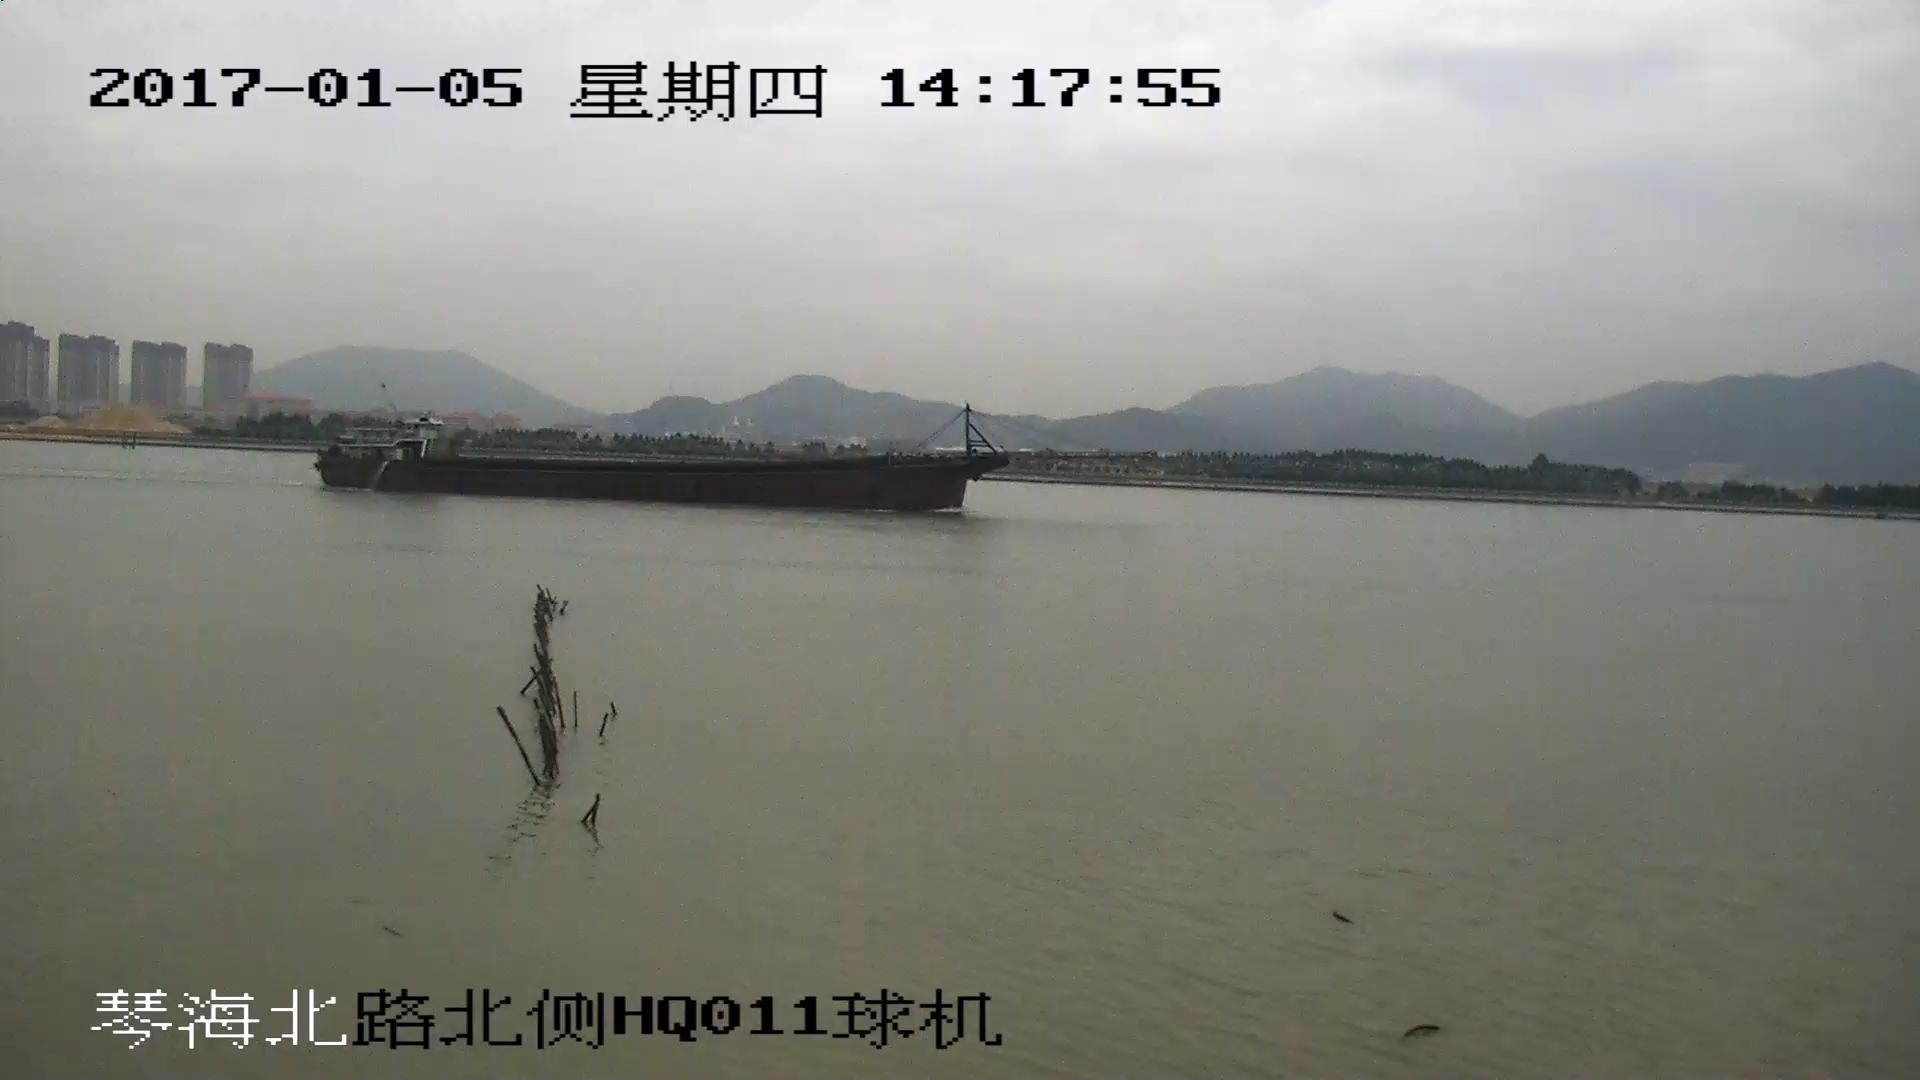Ship: (316, 400, 1120, 514)
